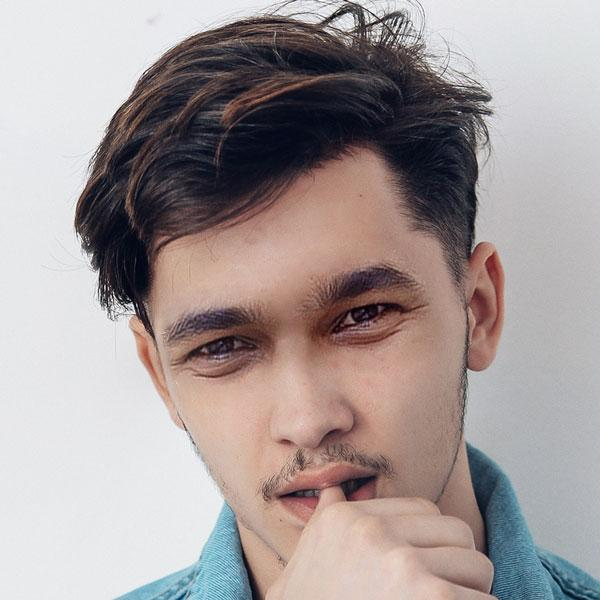Eyes: (172, 321, 271, 376), (323, 293, 410, 345)
